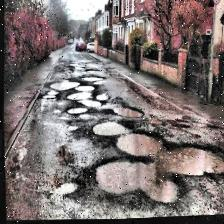pothole: (86, 116, 224, 210), (64, 88, 108, 108), (110, 102, 142, 122), (64, 104, 88, 119), (47, 79, 79, 90), (80, 74, 106, 85), (40, 88, 58, 100)
